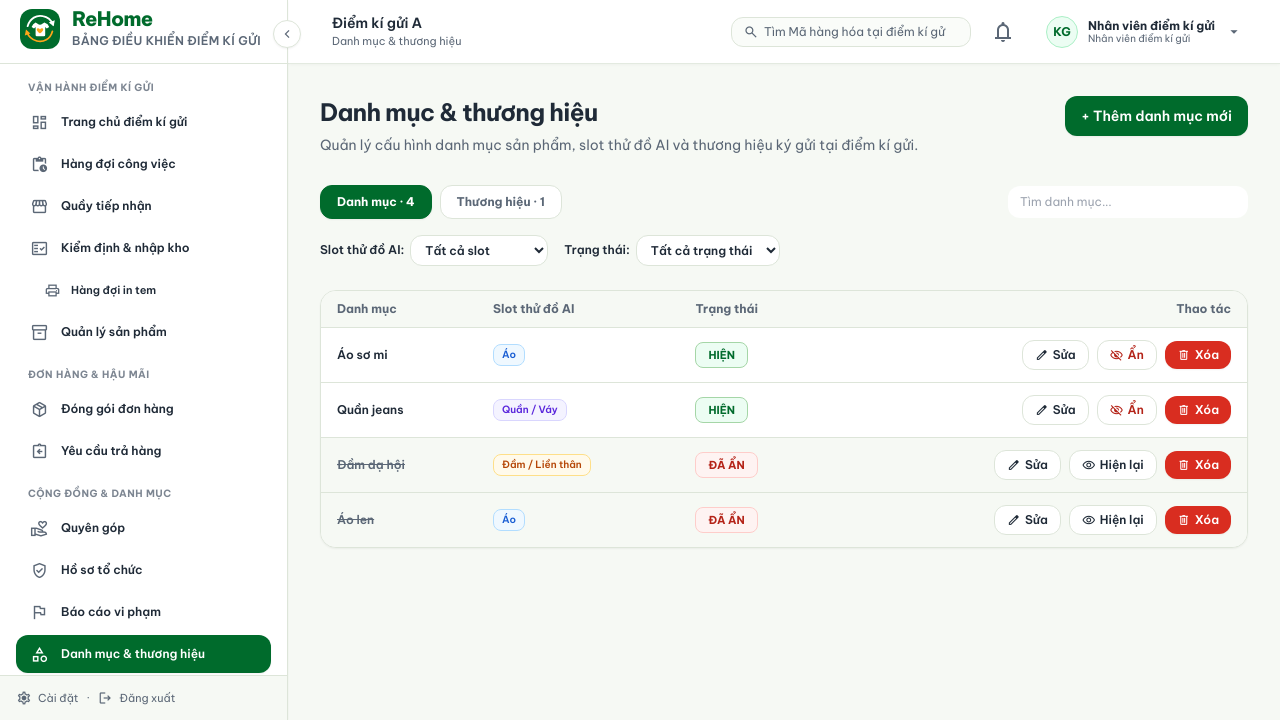
Test: CategoryBrandPage - Multi-dimensional Filter (DM-01) › filters categories by TryOn Slot (TOP, BOTTOM, DRESS)
expect the text "Áo sơ mi" is shown: met, box [337,347,388,362]
expect the text "Quần jeans" is shown: met, box [337,402,404,417]
Select "Áo" in the dropdown labelled "Slot thử đồ AI:" at (479, 250), box [410,235,548,266]
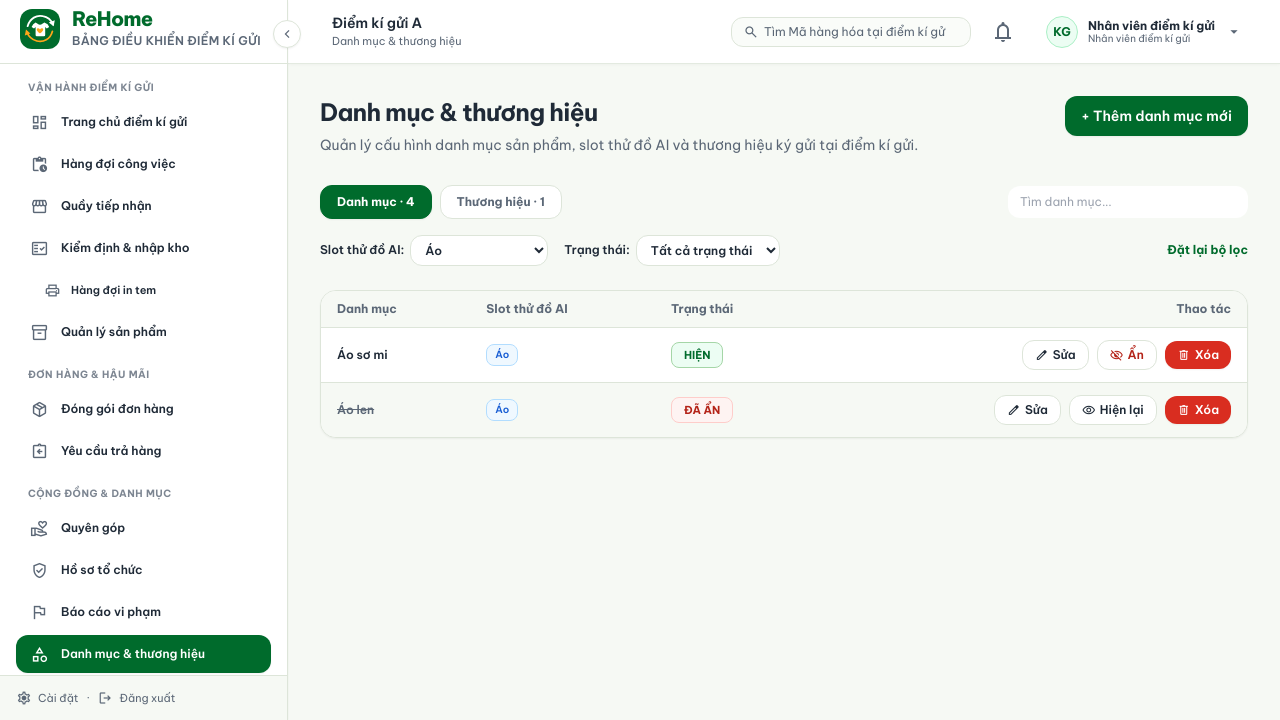
expect the text "Áo sơ mi" is shown: met, box [337,347,388,362]
expect the text "Quần jeans" is gone: met
expect the text "Đầm dạ hội" is gone: met
